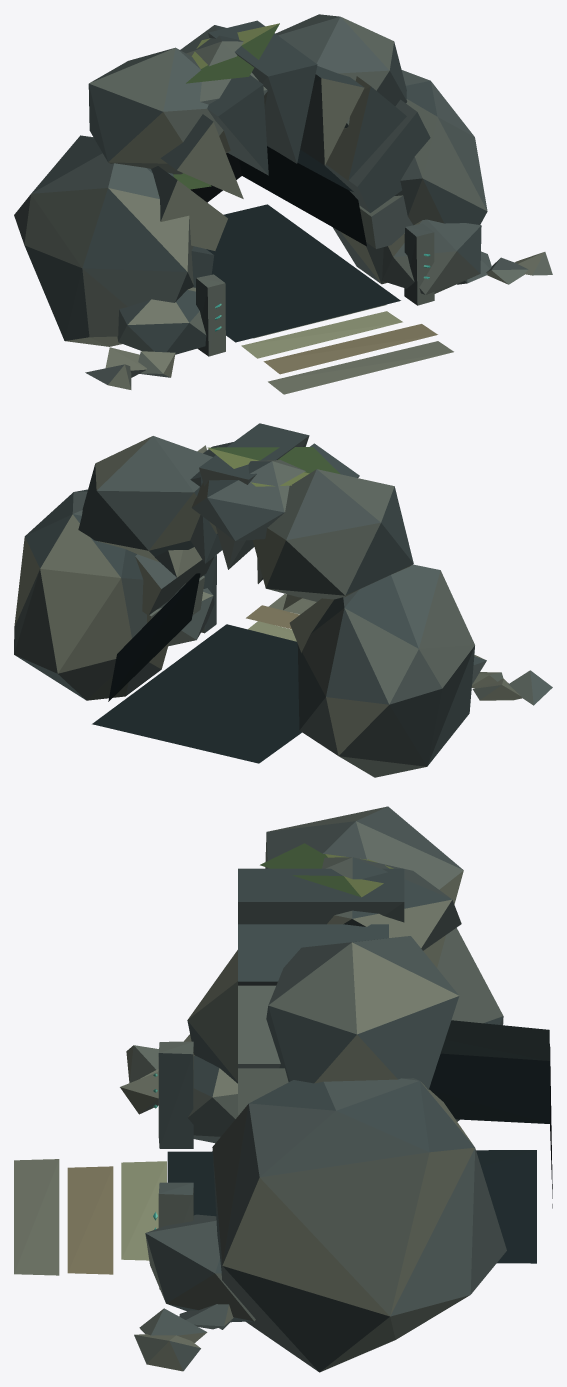
The model's file is BlackfangCave_LOD1.fbx.
3 views of the same model, one above another, from view 1: azimuth 30°, elevation 25°; view 2: azimuth 150°, elevation 25°; view 3: azimuth 270°, elevation 25° (orthographic). The views are drawn at different scales.
Visible parts, largest first — view 1: BlackfangCave_Detail1; view 2: BlackfangCave_Detail1; view 3: BlackfangCave_Detail1.
Boxes of the visible parts, x1=… form: BlackfangCave_Detail1: x1=14, y1=14, x2=552, y2=394; BlackfangCave_Detail1: x1=14, y1=423, x2=552, y2=777; BlackfangCave_Detail1: x1=14, y1=806, x2=552, y2=1372.
Bounding box in the file's own units: 1177 × 710 × 873.
1 material, 1 textured.
